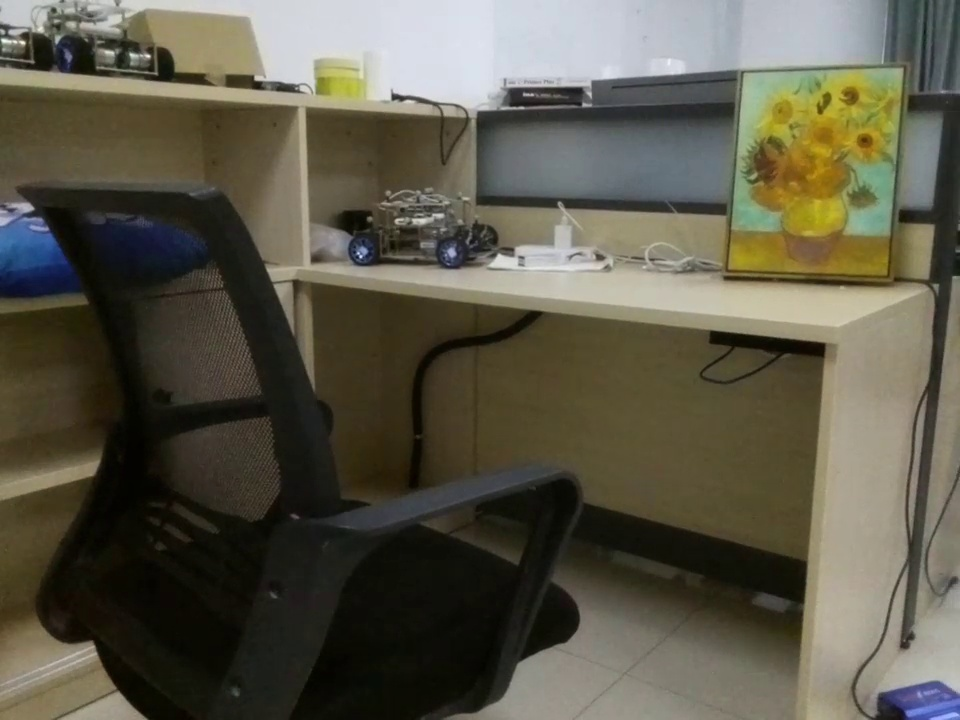painting: (727, 67, 919, 283)
